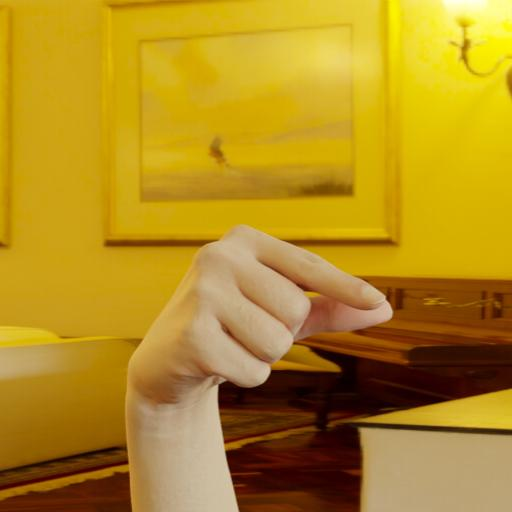G: (124, 222, 403, 392)
